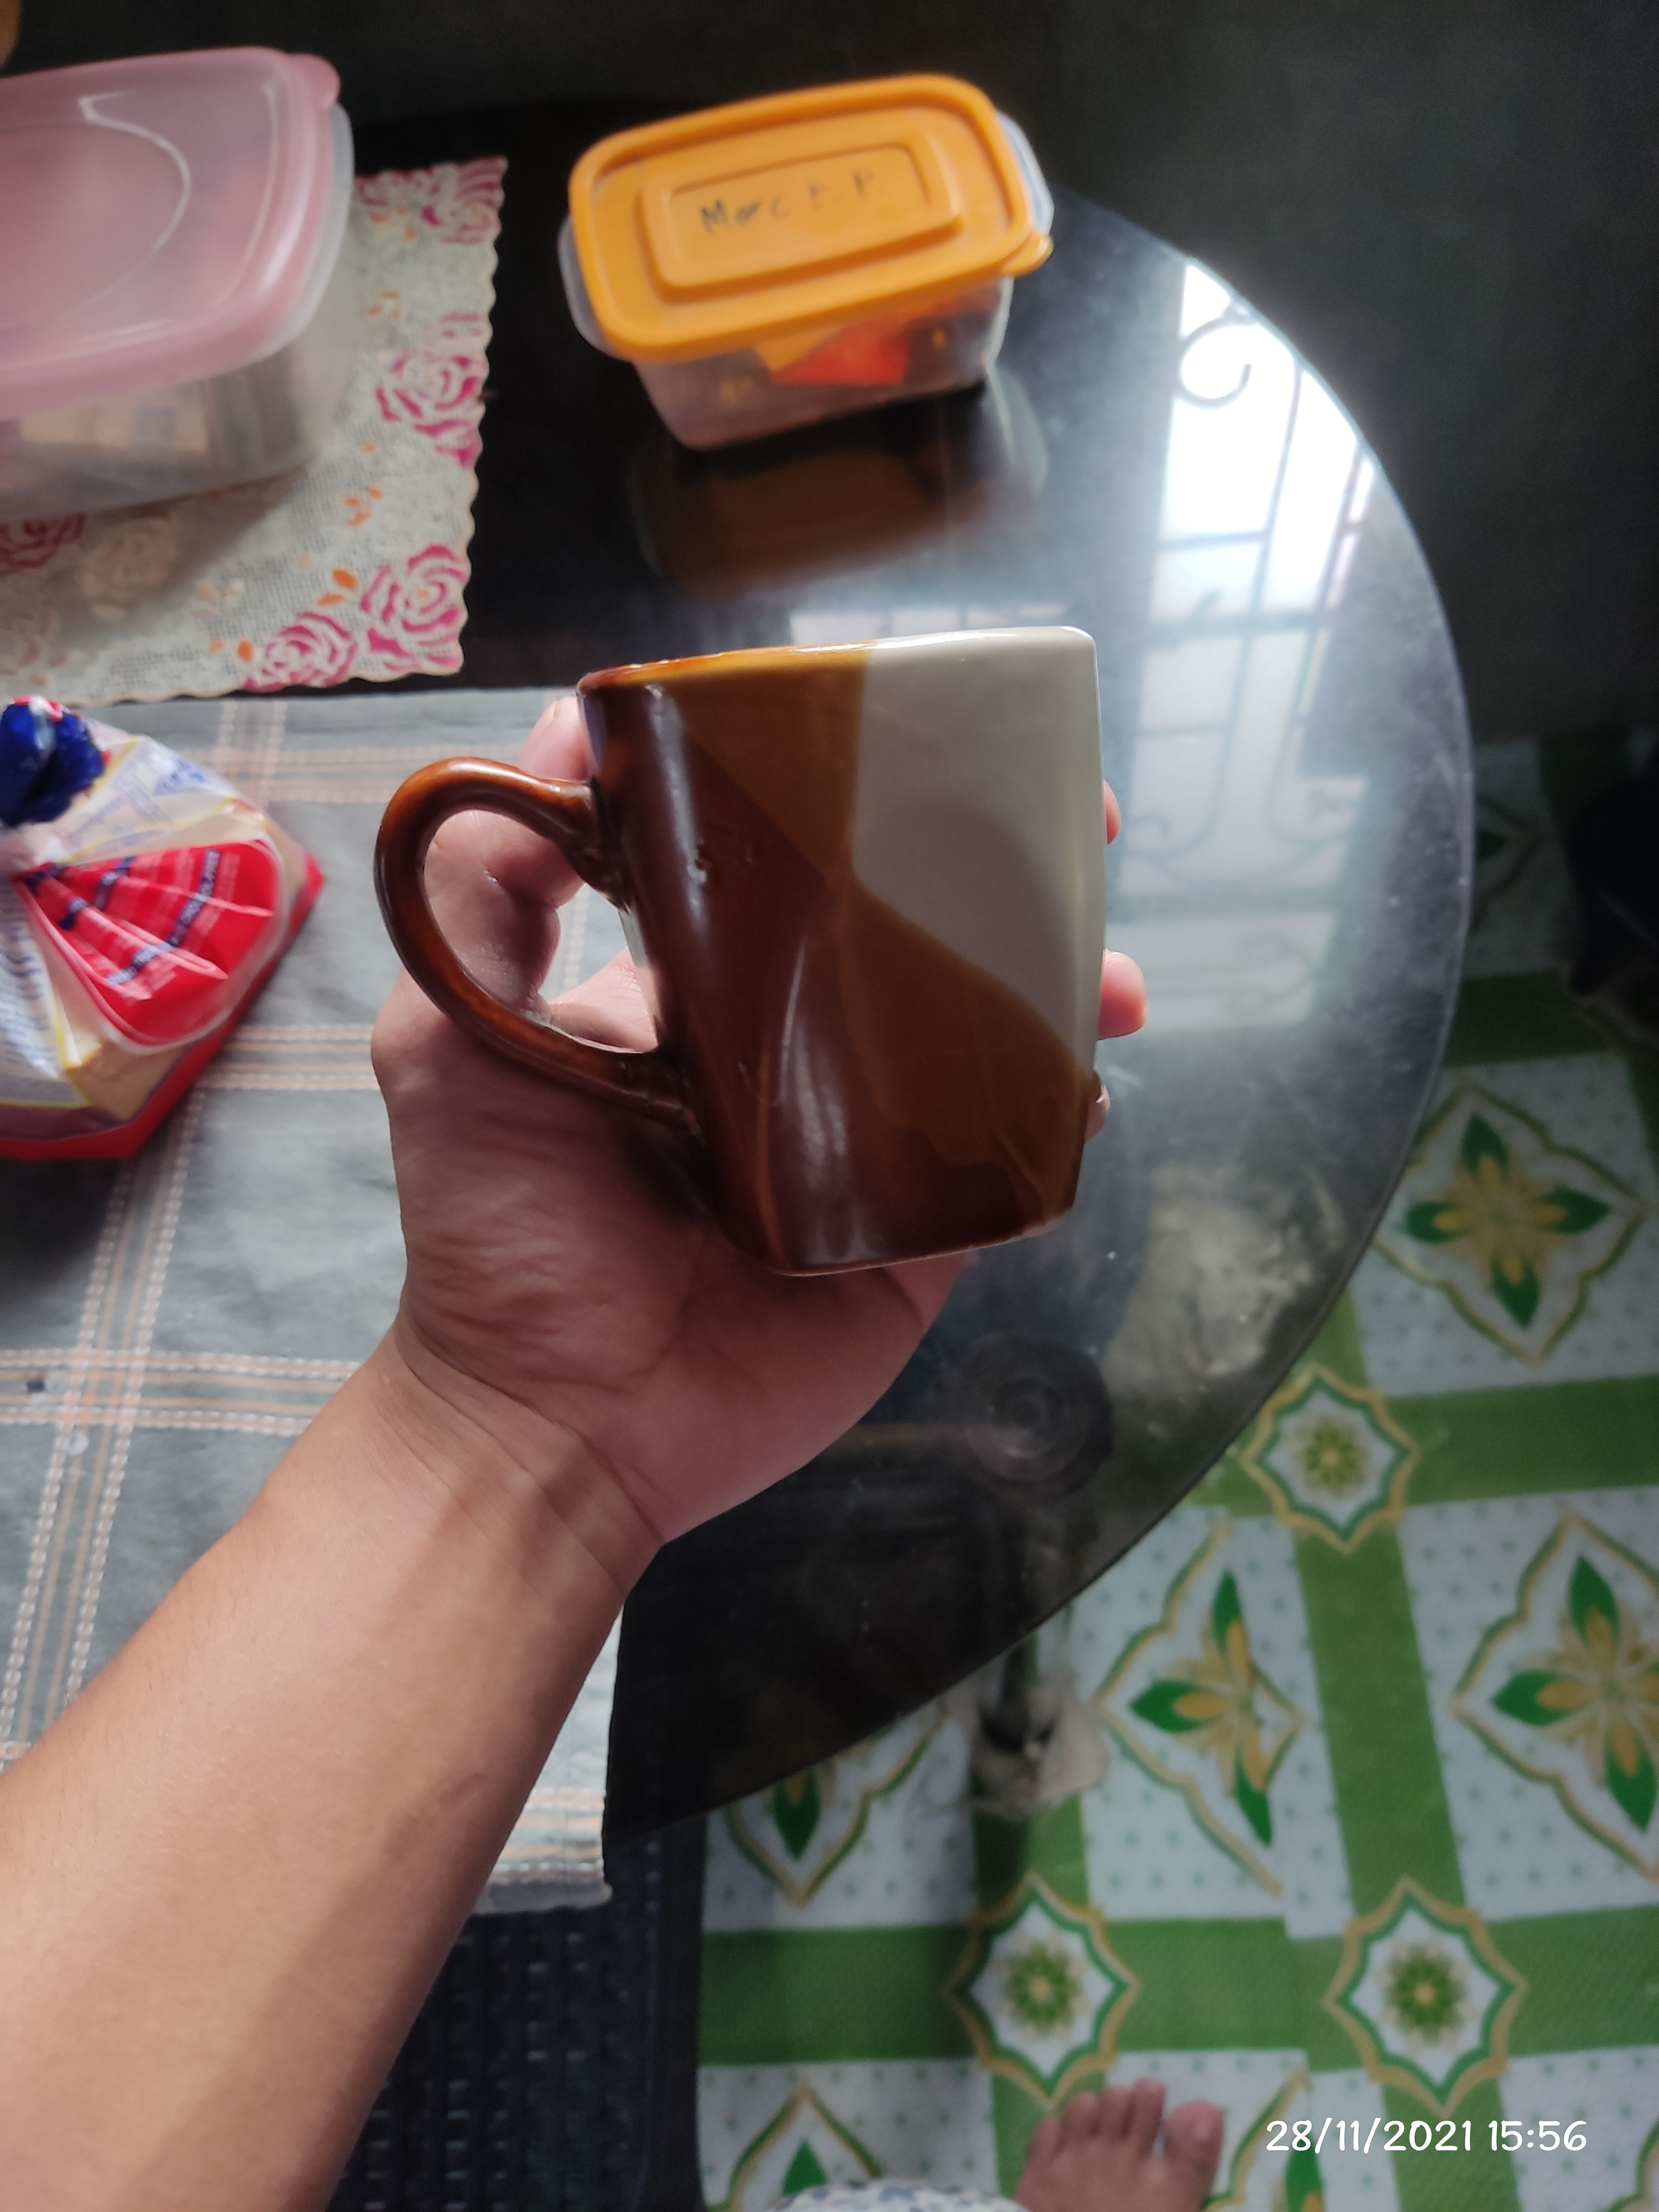mug: (371, 622, 1105, 1282)
